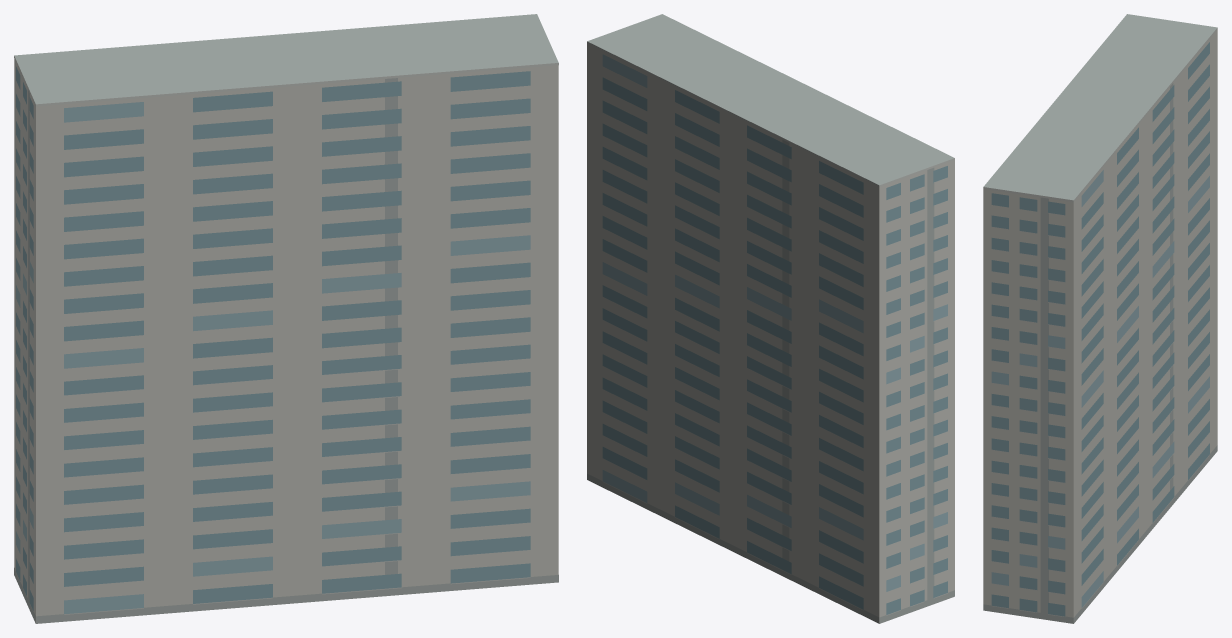
File: residential-5fd4d958-7385-4cad-8436-73ce7a3c4740.glb
3 renders of one model, left to right at view 1: azimuth 30°, elevation 25°; view 2: azimuth 150°, elevation 25°; view 3: azimuth 270°, elevation 25°, orthographic. The views are drawn at different scales.
Visible parts, largest first — view 1: residential-5fd4d958-7385-4cad-8436-73ce7a3c4740.tmp; view 2: residential-5fd4d958-7385-4cad-8436-73ce7a3c4740.tmp; view 3: residential-5fd4d958-7385-4cad-8436-73ce7a3c4740.tmp.
Part boxes in pixels (x1=…): residential-5fd4d958-7385-4cad-8436-73ce7a3c4740.tmp: x1=14, y1=14, x2=558, y2=623; residential-5fd4d958-7385-4cad-8436-73ce7a3c4740.tmp: x1=587, y1=14, x2=954, y2=623; residential-5fd4d958-7385-4cad-8436-73ce7a3c4740.tmp: x1=983, y1=14, x2=1217, y2=623.
Size of the model in its own units: 50.02 by 53 by 26.58.
